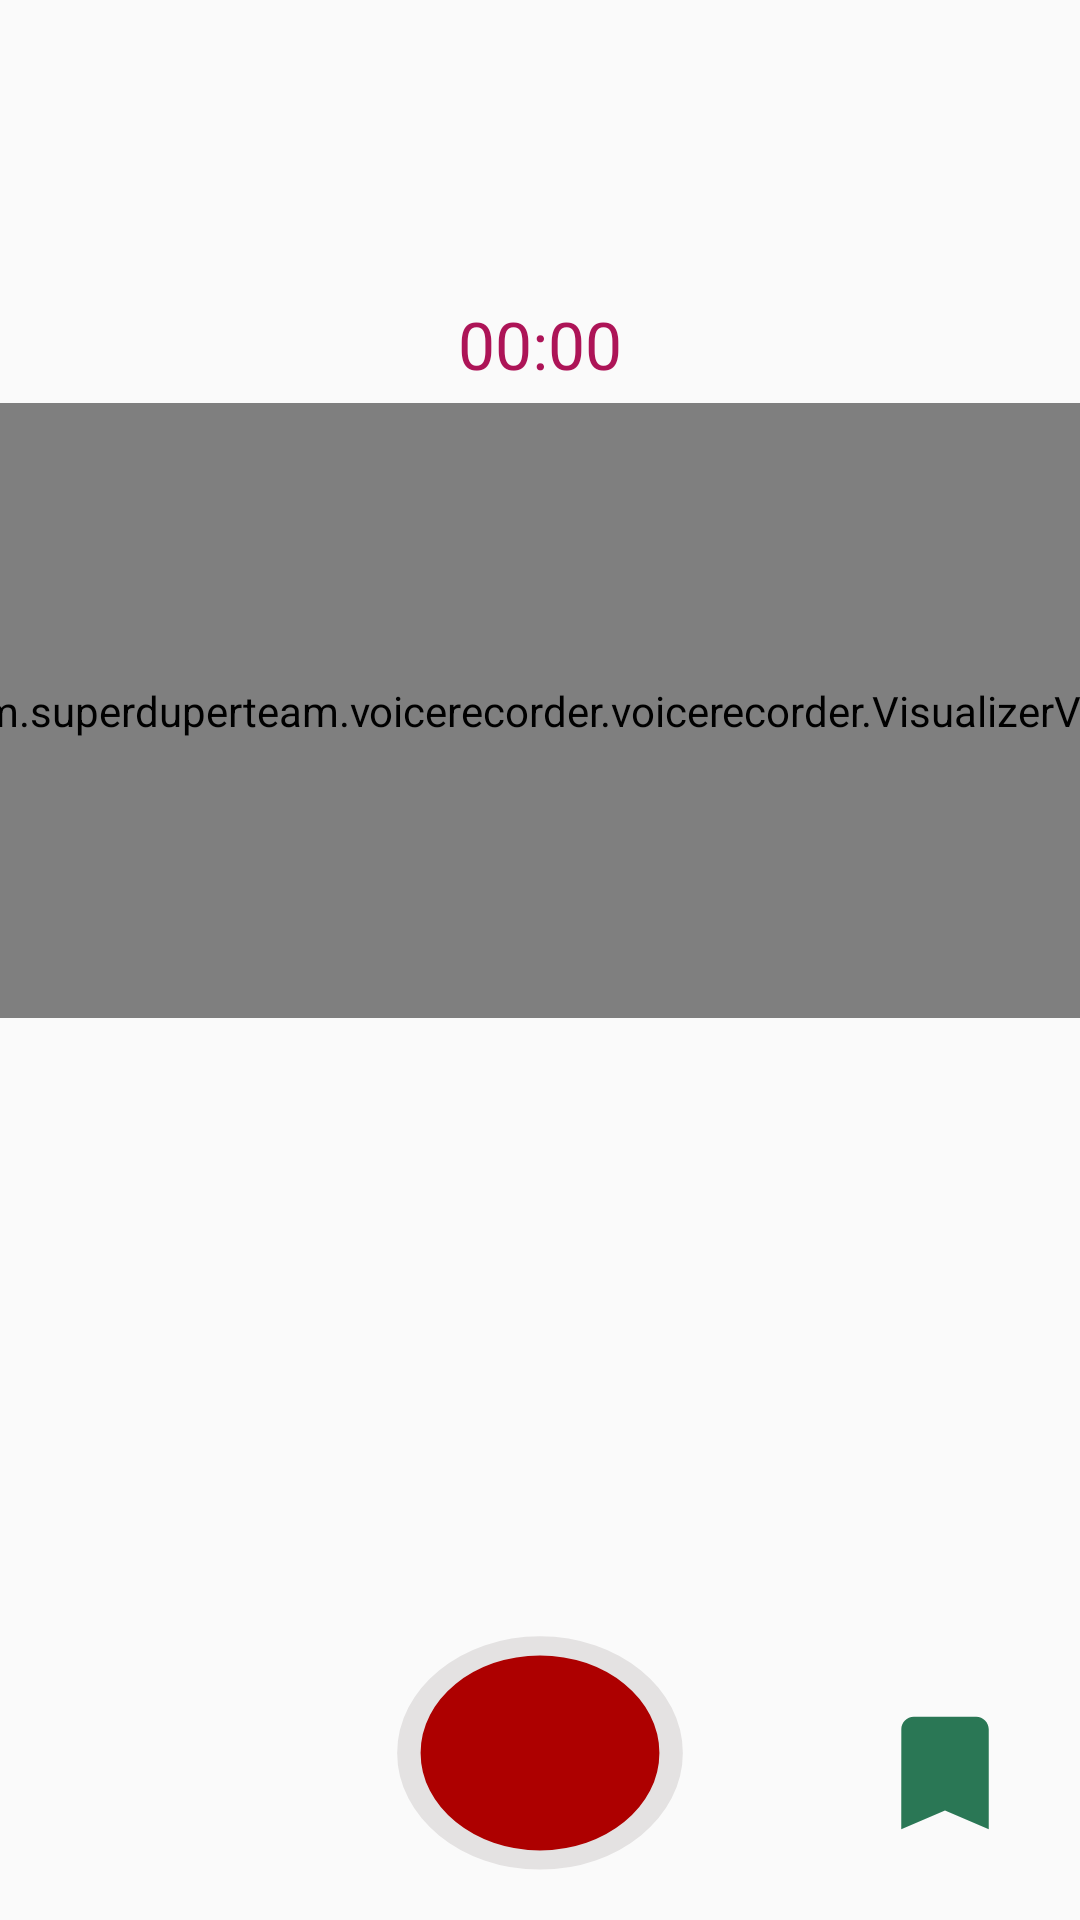

Point at icon controls on the screen. Image size 1080x1920, points as [x,y].
bookmark: [945,1772]
record: [540,1753]
